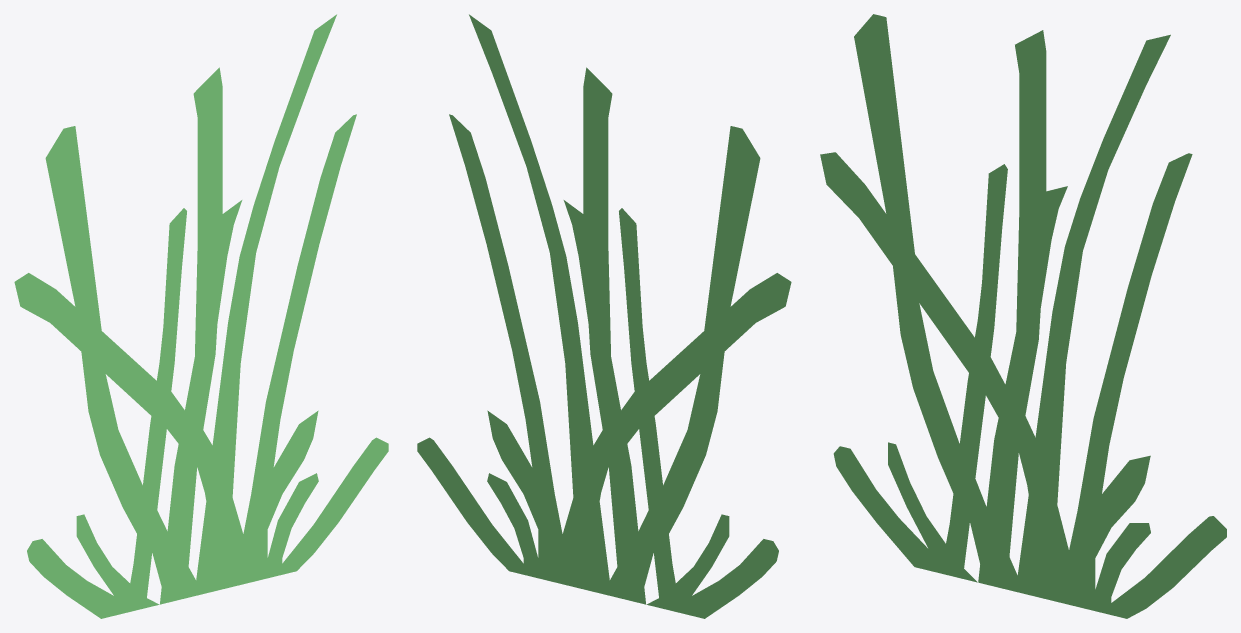
File: Vegetation_Verdant_Grass_Flat_03.FBX
3 views of the same model, side by side, from view 1: azimuth 30°, elevation 25°; view 2: azimuth 150°, elevation 25°; view 3: azimuth 330°, elevation 25° (orthographic). The views are drawn at different scales.
Parts seen in each view (by area): view 1: Vegetation_Verdant_Grass_Flat_03; view 2: Vegetation_Verdant_Grass_Flat_03; view 3: Vegetation_Verdant_Grass_Flat_03.
Part boxes in pixels (bbox=[...]): Vegetation_Verdant_Grass_Flat_03: bbox=[14, 14, 388, 618]; Vegetation_Verdant_Grass_Flat_03: bbox=[417, 14, 791, 618]; Vegetation_Verdant_Grass_Flat_03: bbox=[820, 14, 1226, 618].
Size of the model in its own units: 1047 by 1464 by 6.4e-05.
